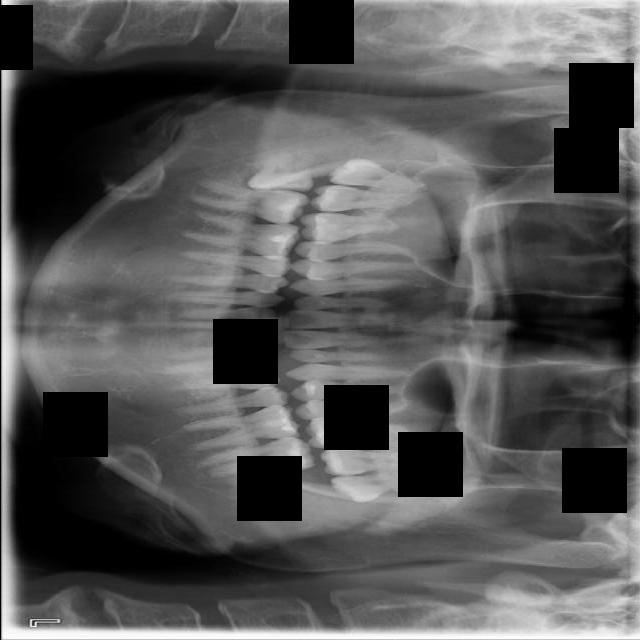3M ESPE Implant: (326, 155, 425, 194)
52: (248, 213, 303, 267), (252, 405, 300, 440), (290, 381, 336, 402)
73: (52, 591, 74, 602)
BioHorizons Implant: (317, 445, 426, 483)
BioLife Implant: (329, 469, 424, 505)
Blue Sky Bio Implant: (198, 435, 315, 477)
Caries: (308, 185, 413, 212)
Implant: (192, 177, 310, 229)
Keystone Dental Implant: (246, 147, 315, 197)
